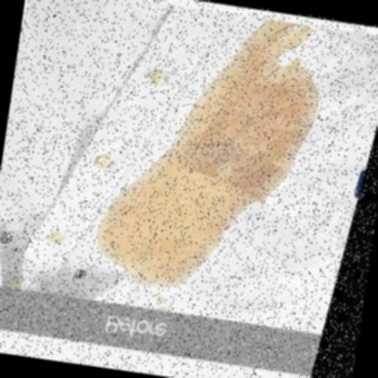coffee: (107, 171, 226, 280), (212, 66, 302, 168)
